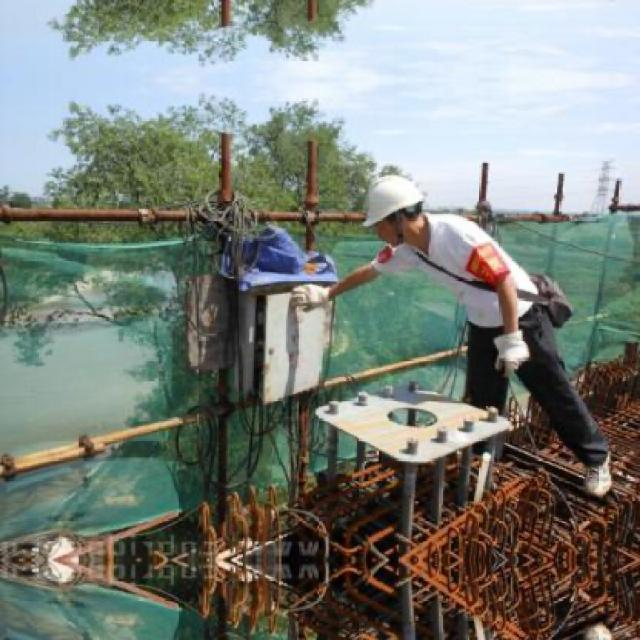helmet: (355, 164, 440, 250)
